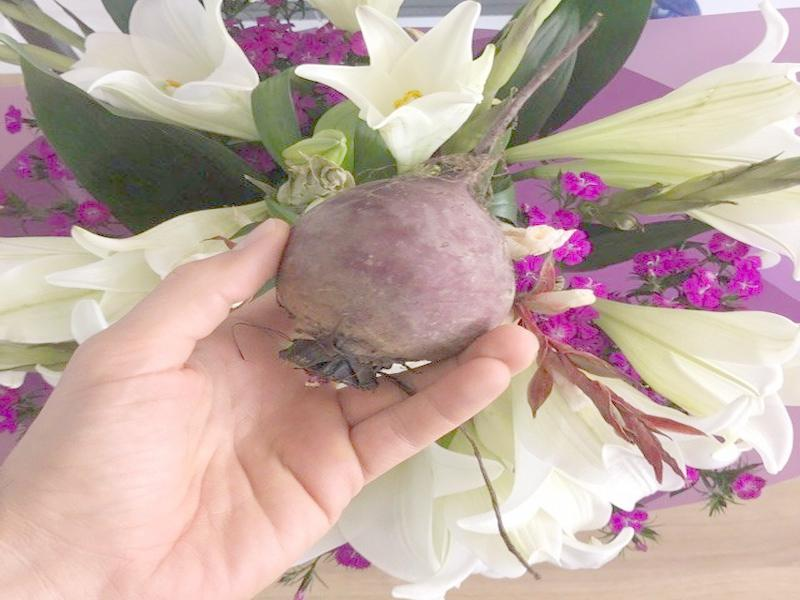Beet: (276, 15, 604, 387)
